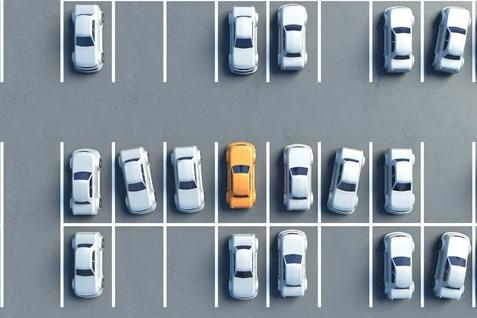occupied: (61, 143, 114, 225), (113, 143, 165, 225), (319, 143, 371, 225), (62, 225, 114, 307), (371, 224, 423, 306), (216, 143, 268, 224), (216, 225, 268, 306), (268, 225, 320, 306), (165, 143, 216, 225), (371, 143, 422, 225), (62, 1, 114, 81), (216, 1, 268, 81), (371, 1, 423, 81), (268, 143, 319, 224), (423, 225, 474, 306), (268, 1, 319, 81), (423, 1, 474, 81)
vacant: (113, 225, 165, 307), (165, 1, 217, 81), (319, 1, 371, 81), (165, 225, 216, 306), (320, 225, 371, 306), (423, 143, 474, 224), (114, 1, 165, 81)
